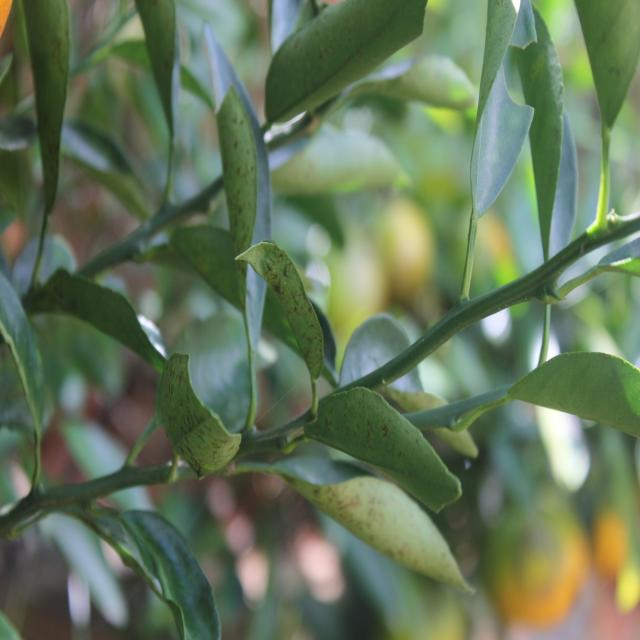melanose: (286, 467, 475, 603), (306, 386, 462, 518), (228, 230, 336, 385), (147, 349, 249, 496), (214, 64, 277, 252)
